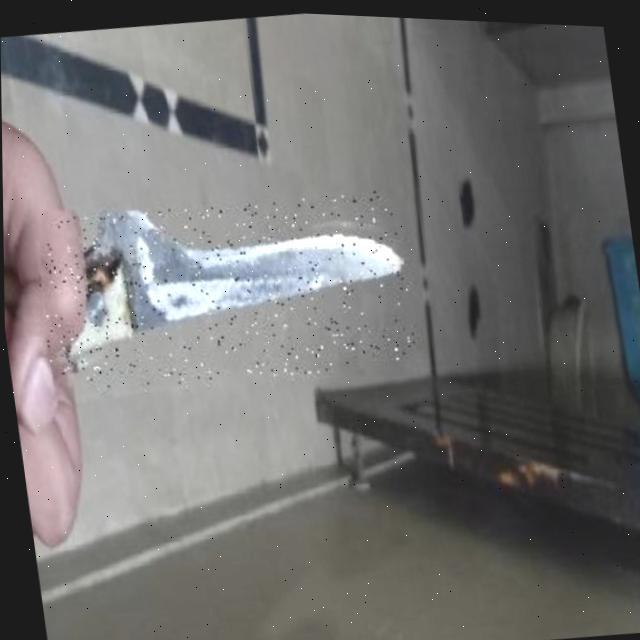knife: (28, 174, 416, 405)
